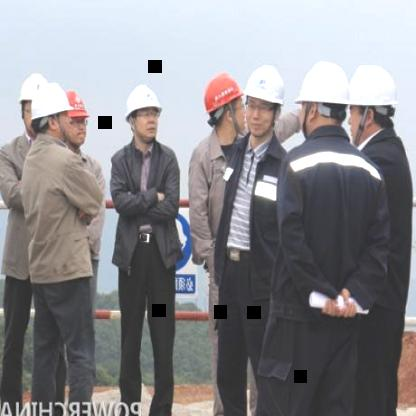helmet: (298, 62, 360, 140), (338, 61, 398, 140), (202, 70, 247, 146), (244, 60, 288, 136), (122, 80, 164, 147), (34, 84, 78, 146), (56, 89, 92, 144), (18, 70, 44, 136)
